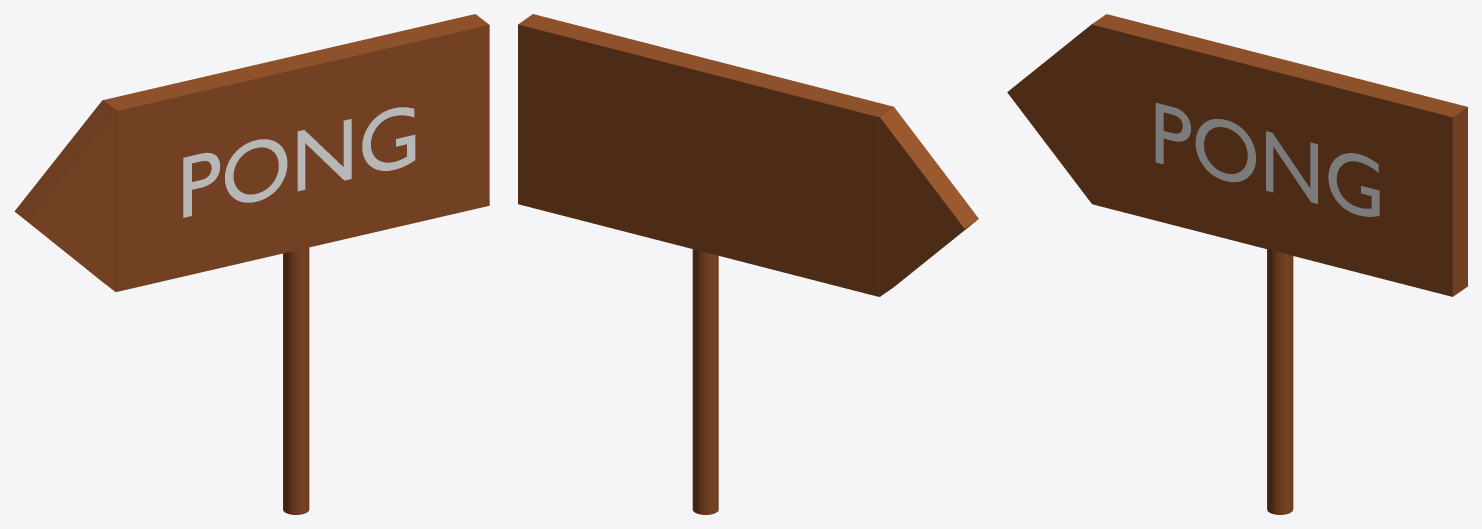
File: PancartePong.glb
3 views of the same model, side by side, from view 1: azimuth 30°, elevation 25°; view 2: azimuth 150°, elevation 25°; view 3: azimuth 330°, elevation 25° (orthographic).
Visible parts, largest first — view 1: pancarte, poteau, Text; view 2: pancarte, poteau; view 3: pancarte, poteau, Text.
Part boxes in pixels (<box>): pancarte: <box>14,14,489,291</box>; poteau: <box>283,247,309,514</box>; Text: <box>183,107,415,217</box>; pancarte: <box>518,14,978,296</box>; poteau: <box>692,249,718,514</box>; pancarte: <box>1007,14,1467,296</box>; poteau: <box>1267,249,1293,514</box>; Text: <box>1155,103,1379,216</box>.
Bounding box in the file's own units: 5.06 × 4.75 × 0.3897.
